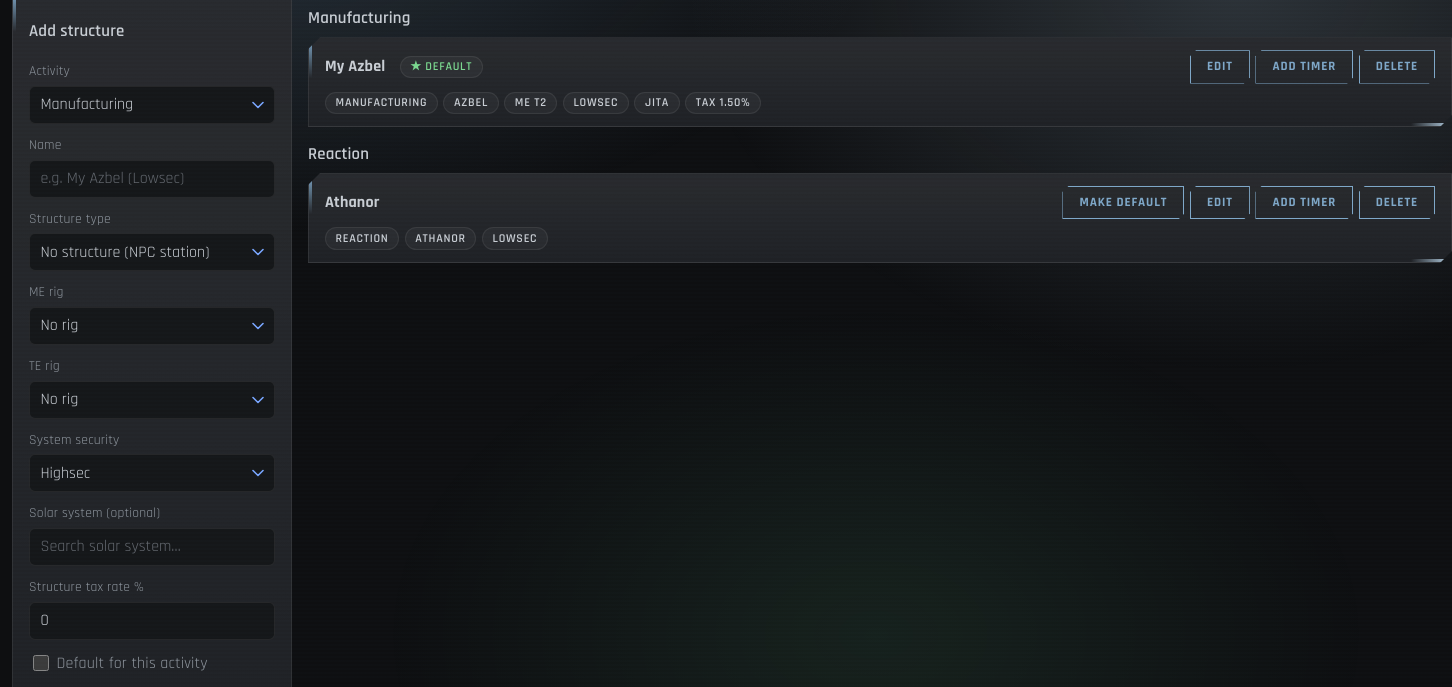
Structures › asks for a system when the structure has none and builds timer requests
The image size is (1452, 687).
Click the 2nd button "Add timer" at (1304, 203), box [1256, 186, 1353, 219]
(page scrolled)
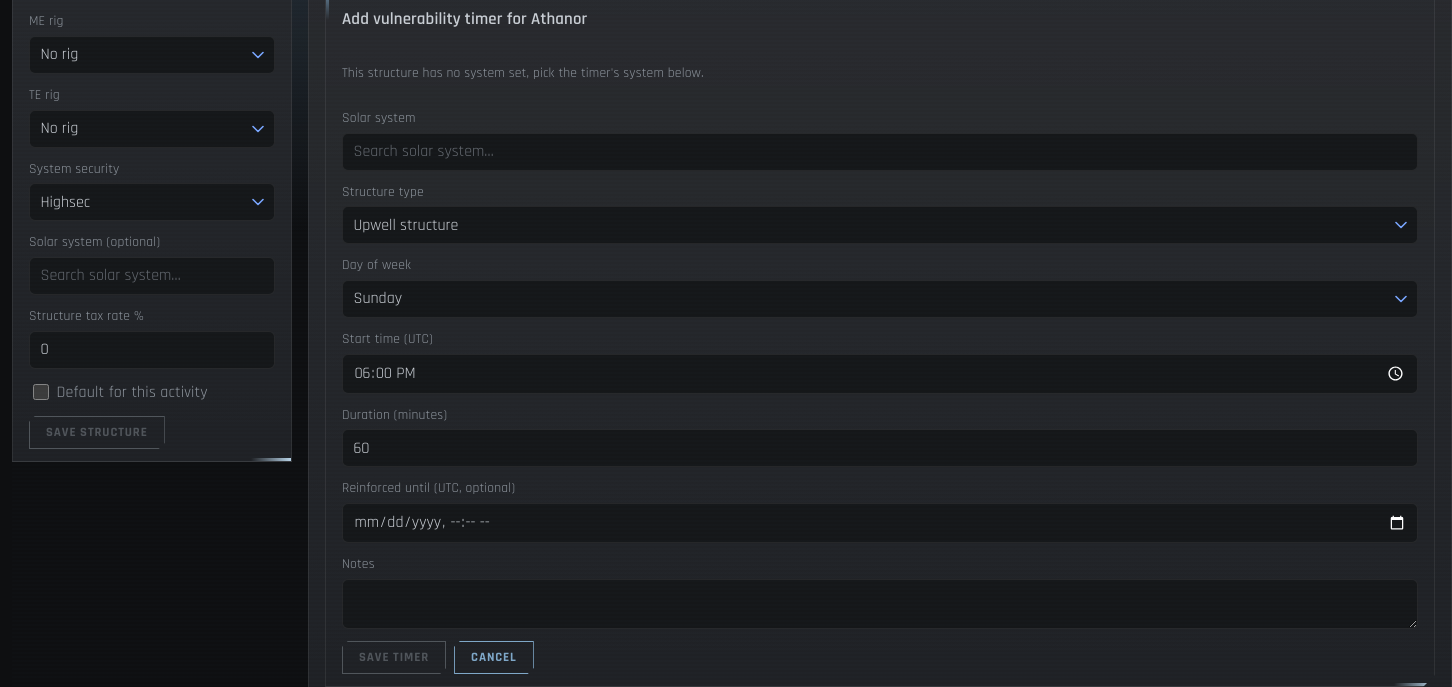
Result: the text "has no system set" is shown at [342, 64, 704, 82]
Result: the button "Save timer" is disabled at [342, 641, 446, 674]
